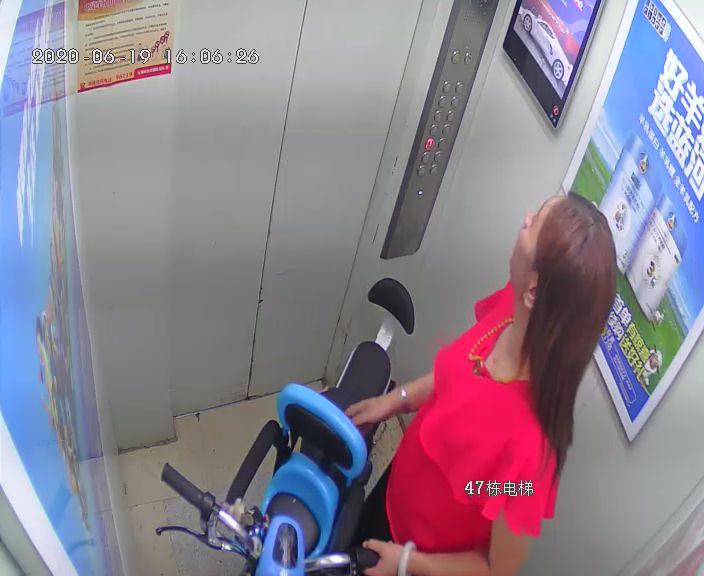Electric-bicycle: (151, 277, 414, 576)
